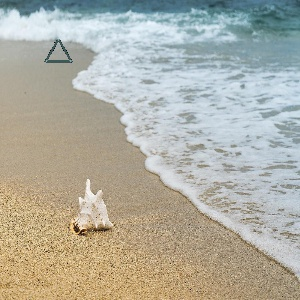triangle: (42, 37, 75, 67)
